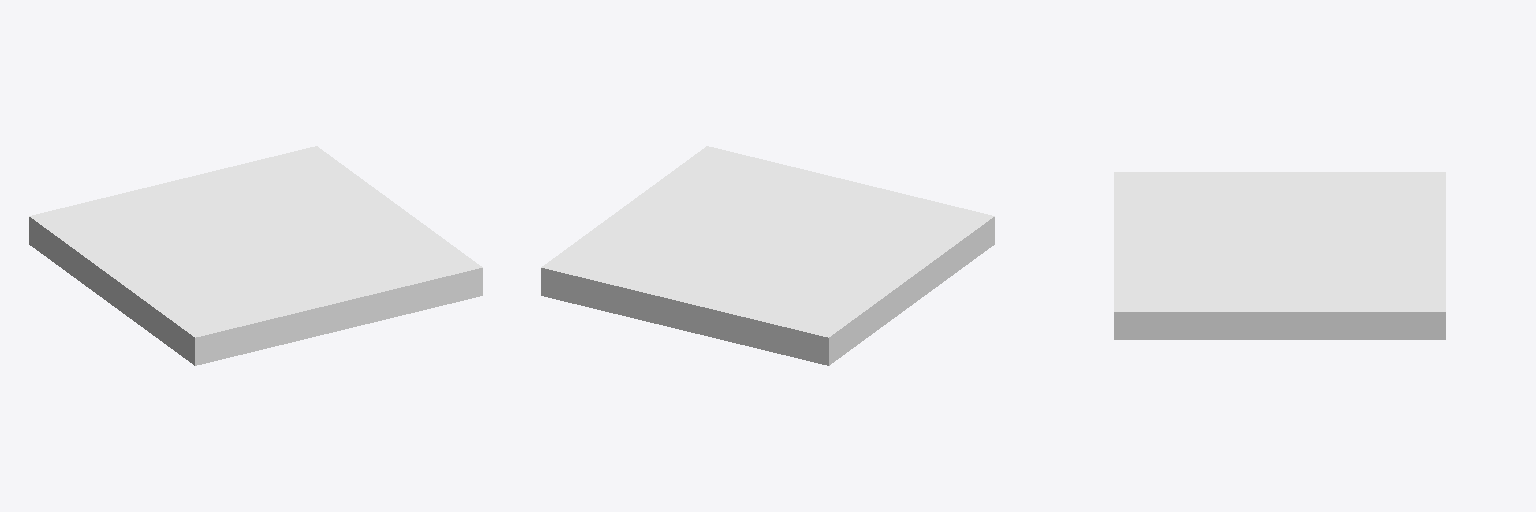
The model's file is Floor.obj.
3 views of the same model, side by side, from view 1: azimuth 30°, elevation 25°; view 2: azimuth 150°, elevation 25°; view 3: azimuth 270°, elevation 25° (orthographic).
Parts seen in each view (by area): view 1: Floor_-4; view 2: Floor_-4; view 3: Floor_-4.
Part boxes in pixels (x1,y1,x2,y2): Floor_-4: (29,146,482,365); Floor_-4: (541,146,994,365); Floor_-4: (1114,172,1445,339).
Size of the model in its own units: 1 by 0.0938 by 1.